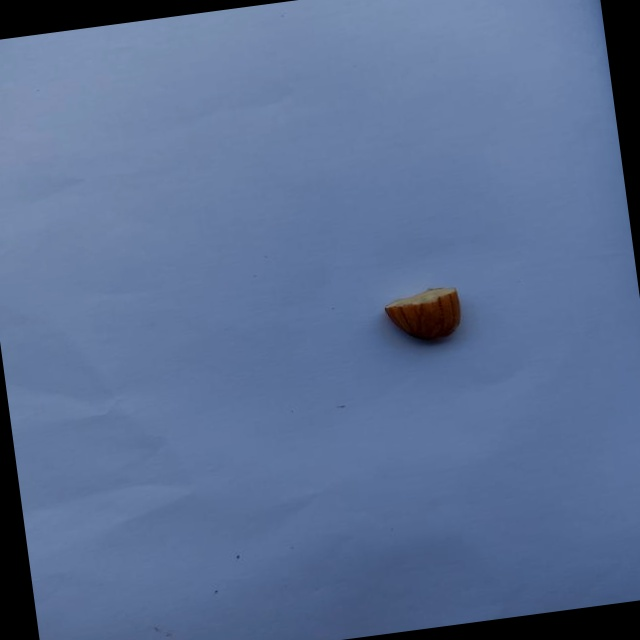grade4: (374, 280, 472, 354)
